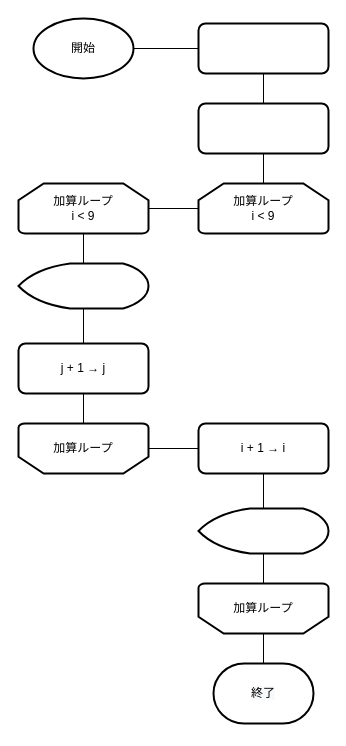
This 346x746 diagram has some shape labels left out. Here are the shapes that lost their labels. From the top down, the centre of each, then its label:
(263,48): 0 → i
(263,128): 0 → j
(83,285): (i + 1) * (j + 1)
(263,530): \n
